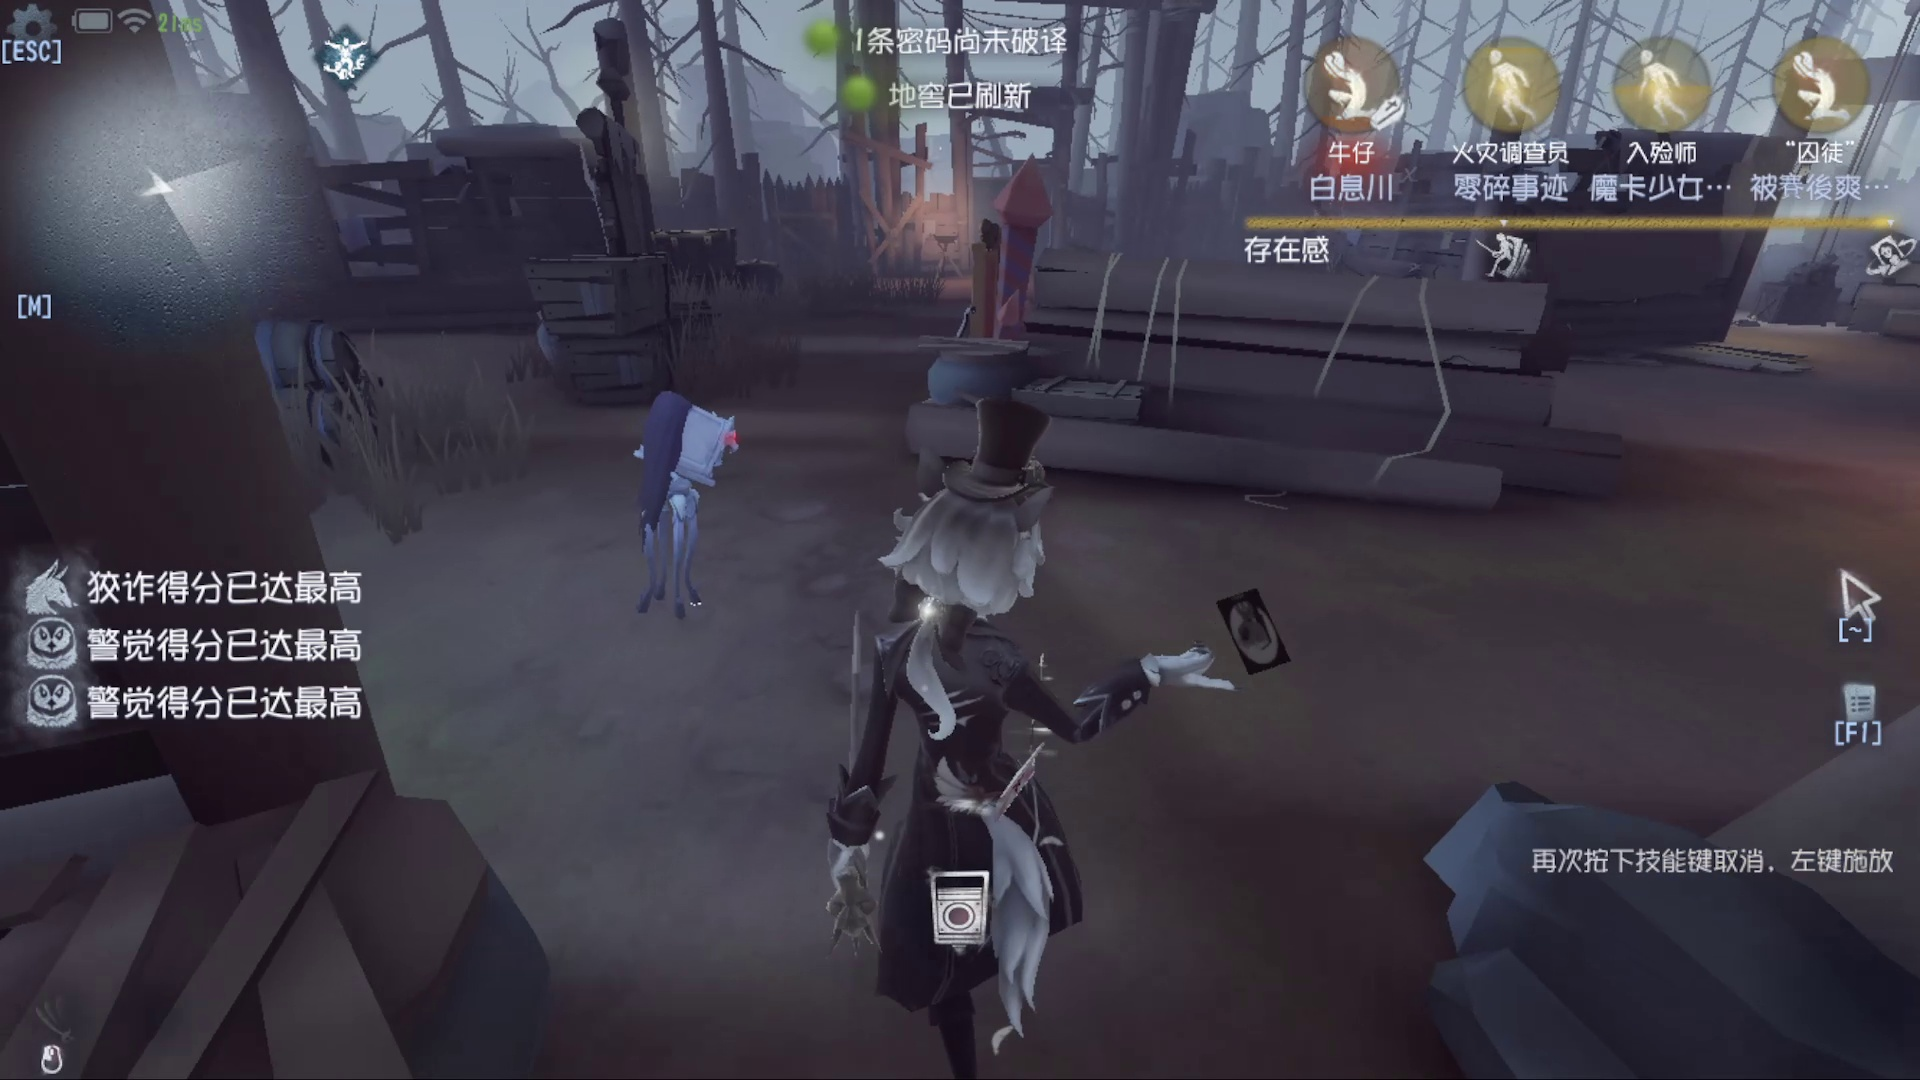狂欢之椅: (880, 160, 1054, 381)
